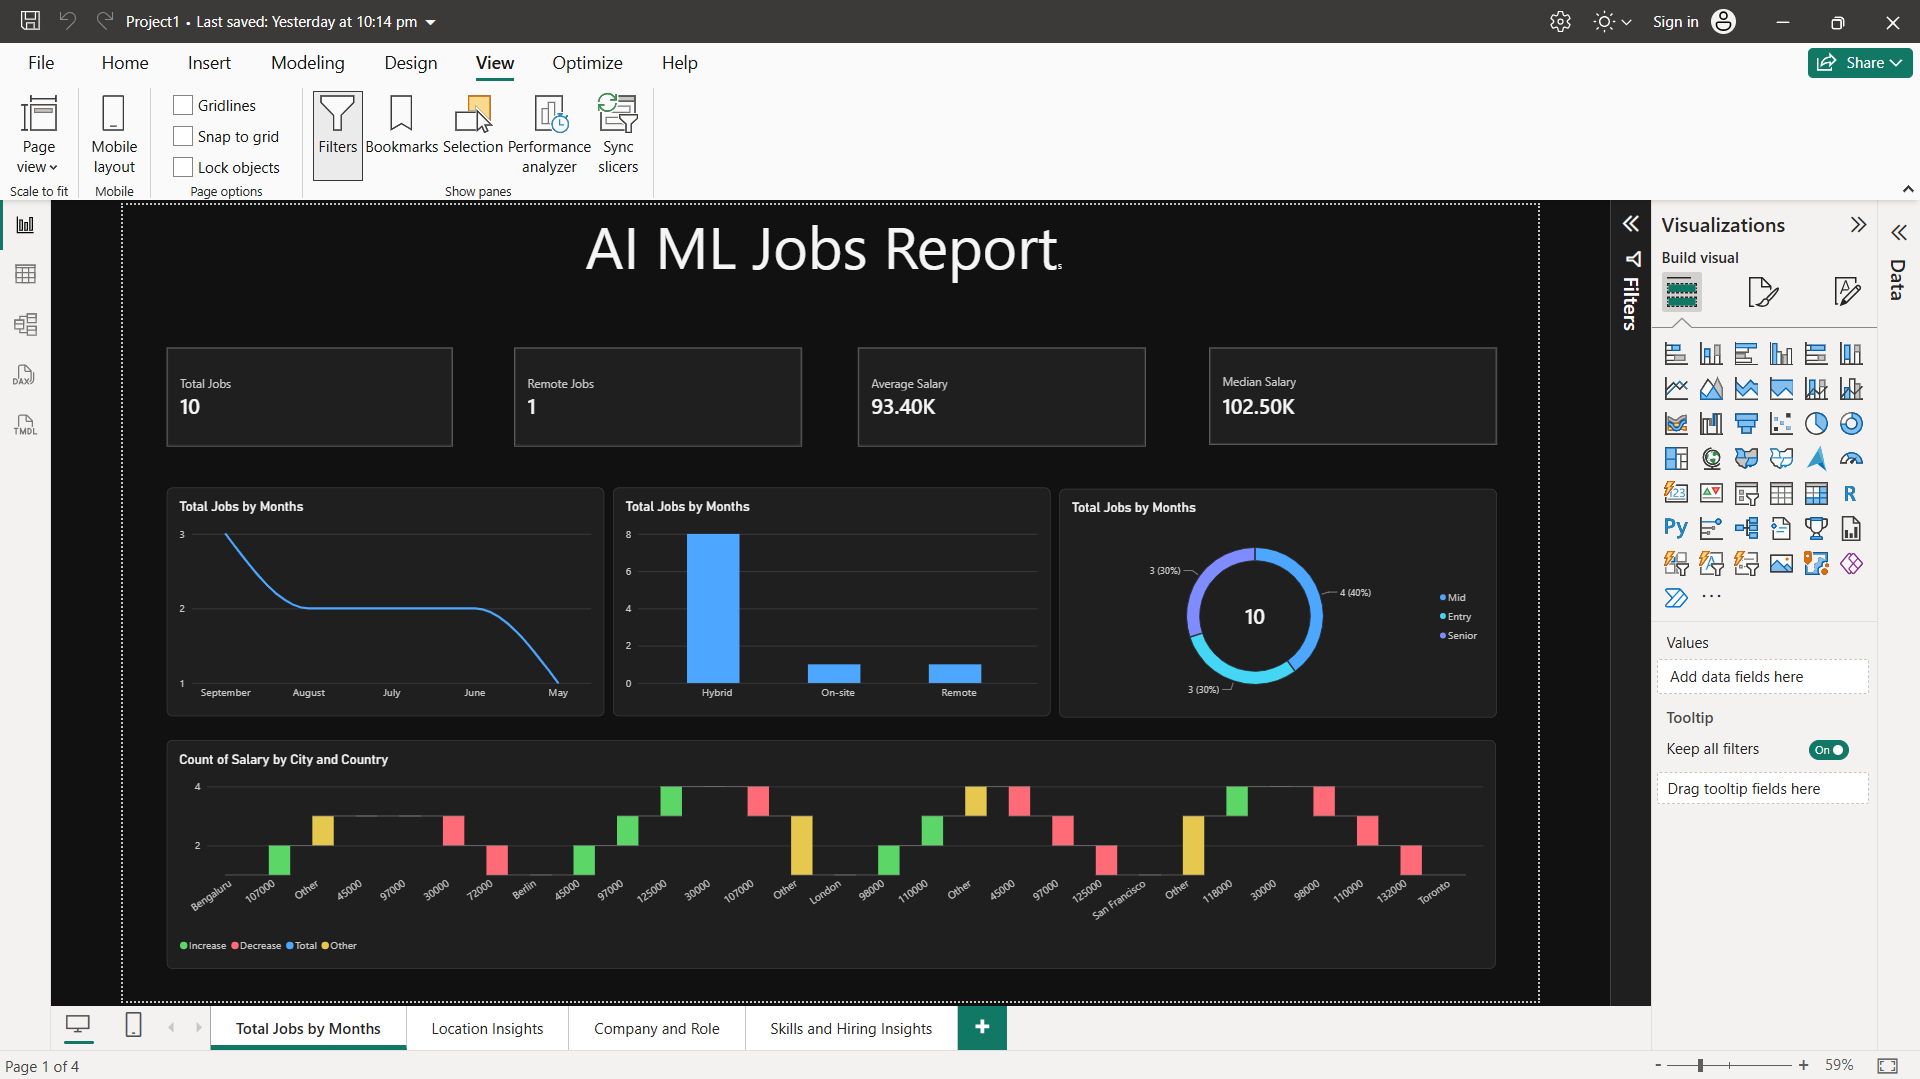

The page's visual inventory and layout, read from the dashboard file:
{"tool":"powerbi","page":{"name":"Total Jobs by Months","canvas":[1920,1080],"ordinal":0},"visuals":[{"type":"textbox","box":[620,0,660,112],"z":0},{"type":"cardVisual","fields":{"Data":["Fact_Jobs.TotalJobs"]},"box":[60,193.3,389,134.3],"z":1000},{"type":"cardVisual","fields":{"Data":["Fact_Jobs.AvgSalary"]},"box":[996.7,193.3,390.7,134.3],"z":2000},{"type":"cardVisual","fields":{"Data":["Fact_Jobs.MedianSalary"]},"box":[1473.3,193.3,390,132],"z":3000},{"type":"cardVisual","fields":{"Data":["Fact_Jobs.RemoteJobsCount"]},"box":[530,193.3,390.7,134.3],"z":4000},{"type":"lineChart","title":"Total Jobs by Months","fields":{"Category":["Dim_Date.MonthName"],"Y":["Fact_Jobs.TotalJobs"]},"box":[58.6,382.9,593.3,310],"z":5000},{"type":"clusteredColumnChart","title":"Total Jobs by Months","fields":{"Category":["Fact_Jobs.IsRemote"],"Y":["CountNonNull(Fact_Jobs.Experience_Level)"]},"box":[664,384,593.3,310],"z":6000},{"type":"donutChart","title":"Total Jobs by Months","fields":{"Category":["Fact_Jobs.Experience_Level"],"Y":["Fact_Jobs.TotalJobs"]},"box":[1270,384.3,593.3,310],"z":7000},{"type":"waterfallChart","title":"Count of Salary by City and Country","fields":{"Breakdown":["Fact_Jobs.Salary_USD"],"Category":["Dim_Locations.City"],"Y":["CountNonNull(Dim_Locations.Country)"]},"box":[60,726.7,1803.3,310],"z":8000}]}

Visuals, with their boxes on the page's 1920x1080 design canvas (x1, y1, x2, y2). These are canvas units, not pixel positions in the 1920x1079 screenshot, which may show the page scaled, cropped or inside an application window:
textbox: (left=620, top=0, right=1280, bottom=112)
cardVisual - Fact_Jobs.TotalJobs: (left=60, top=193, right=449, bottom=328)
cardVisual - Fact_Jobs.AvgSalary: (left=997, top=193, right=1387, bottom=328)
cardVisual - Fact_Jobs.MedianSalary: (left=1473, top=193, right=1863, bottom=325)
cardVisual - Fact_Jobs.RemoteJobsCount: (left=530, top=193, right=921, bottom=328)
"Total Jobs by Months" lineChart: (left=59, top=383, right=652, bottom=693)
"Total Jobs by Months" clusteredColumnChart: (left=664, top=384, right=1257, bottom=694)
"Total Jobs by Months" donutChart: (left=1270, top=384, right=1863, bottom=694)
"Count of Salary by City and Country" waterfallChart: (left=60, top=727, right=1863, bottom=1037)
